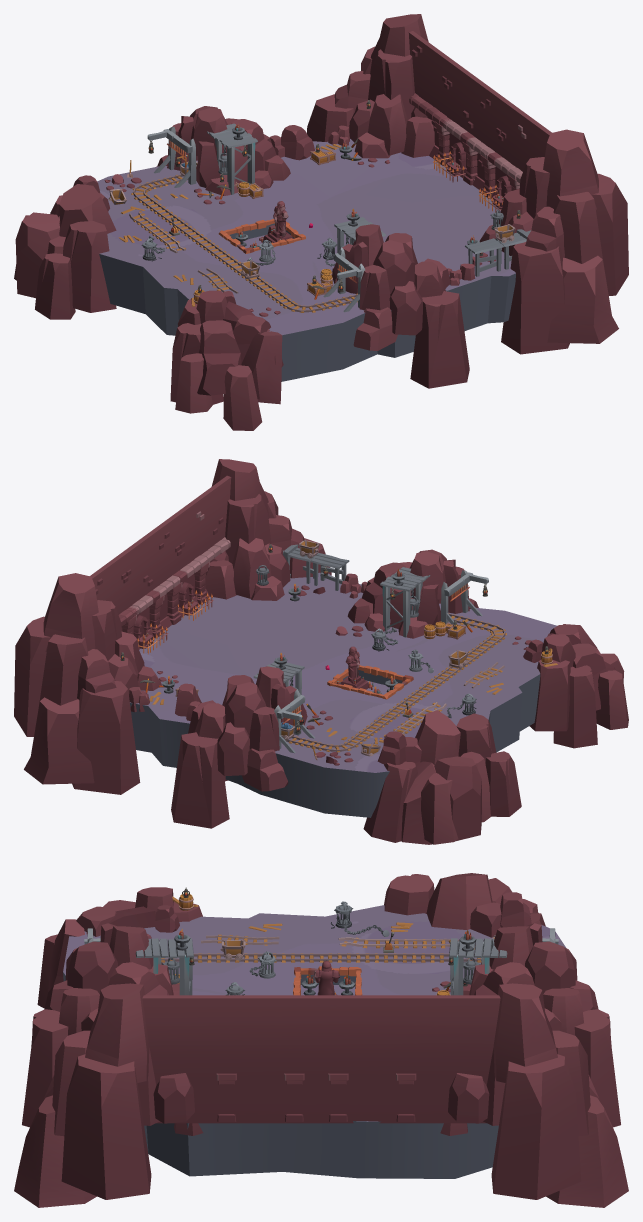
Rendered from cave_inside_for_level_2.fbx.
3 views of the same model, one above another, from view 1: azimuth 30°, elevation 25°; view 2: azimuth 150°, elevation 25°; view 3: azimuth 270°, elevation 25° (orthographic). The views are drawn at different scales.
Visible parts, largest first — view 1: Plane.009, Cube.252, Circle.182, Circle.178, Circle.126, Circle.183, Circle.165, Circle.151, Circle.180, Circle.179, Circle.120, Circle.118 (+30 smaller); view 2: Plane.009, Cube.252, Circle.182, Circle.178, Circle.126, Circle.183, Circle.151, Circle.180, Circle.179, Circle.120, Circle.163, Circle.158 (+33 smaller); view 3: Cube.252, Plane.009, Circle.180, Circle.178, Circle.183, Circle.126, Circle.155, Circle.179, Circle.176, Cube.408, Circle.129, Circle.152 (+21 smaller).
Part boxes in pixels (<box>): Plane.009: <box>97,139,515,381</box>; Cube.252: <box>408,31,551,200</box>; Circle.182: <box>307,94,569,354</box>; Circle.178: <box>370,14,598,209</box>; Circle.126: <box>410,291,469,388</box>; Circle.183: <box>547,255,618,343</box>; Circle.165: <box>63,221,116,312</box>; Circle.151: <box>368,49,549,218</box>; Circle.180: <box>592,173,628,295</box>; Circle.179: <box>361,46,603,263</box>; Circle.120: <box>15,212,59,298</box>; Circle.118: <box>368,94,526,226</box>; Plane.009: <box>130,572,557,817</box>; Cube.252: <box>90,475,231,649</box>; Circle.182: <box>72,538,331,794</box>; Circle.178: <box>43,459,269,651</box>; Circle.126: <box>171,732,229,828</box>; Circle.183: <box>24,697,94,784</box>; Circle.151: <box>92,494,271,660</box>; Circle.180: <box>14,616,50,736</box>; Circle.179: <box>39,491,278,705</box>; Circle.120: <box>434,756,481,841</box>; Circle.163: <box>363,761,417,842</box>; Circle.158: <box>553,665,597,748</box>; Cube.252: <box>142,995,500,1123</box>; Plane.009: <box>63,905,566,1178</box>; Circle.180: <box>61,1054,581,1199</box>; Circle.178: <box>85,983,557,1082</box>; Circle.183: <box>14,1095,628,1207</box>; Circle.126: <box>22,1009,620,1127</box>; Circle.155: <box>67,941,575,994</box>; Circle.179: <box>52,1030,590,1136</box>; Circle.176: <box>153,1073,489,1123</box>; Cube.408: <box>135,938,507,995</box>; Circle.129: <box>426,873,492,929</box>; Circle.152: <box>109,926,533,969</box>.
Size of the model in its own units: 13.59 by 5.22 by 12.9.
